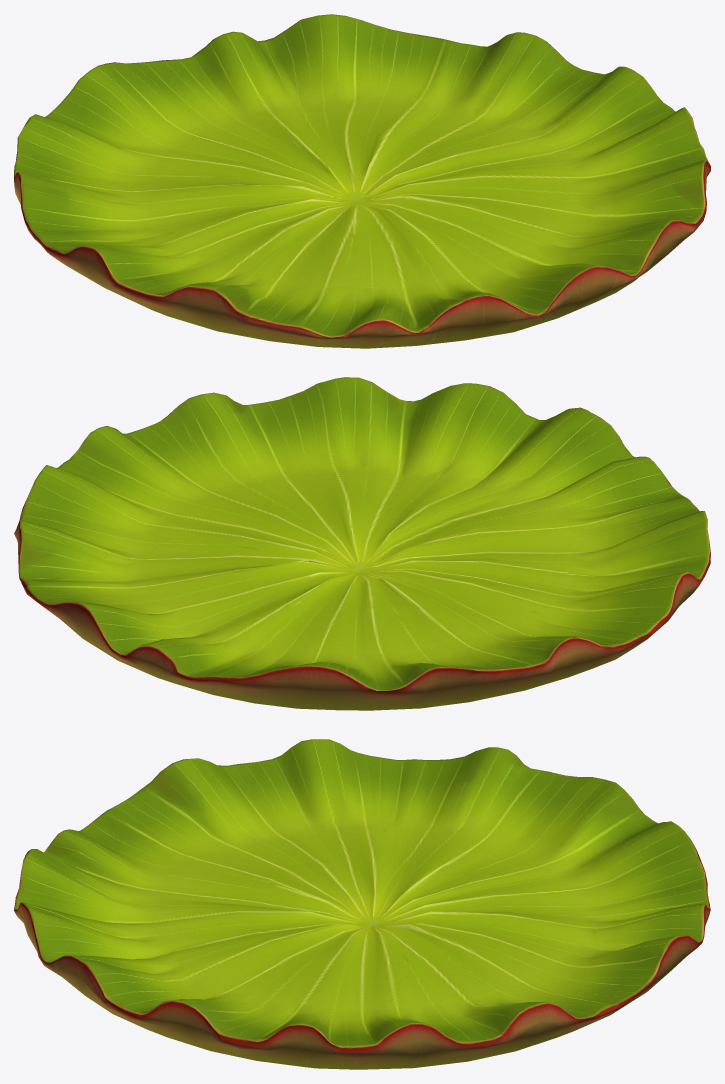
The model's file is pad.glb.
3 views of the same model, one above another, from view 1: azimuth 30°, elevation 25°; view 2: azimuth 150°, elevation 25°; view 3: azimuth 270°, elevation 25° (orthographic).
Bounding box in the file's own units: 0.9546 × 0.1313 × 0.9556.
Materials: 1 (1 with a texture image).
